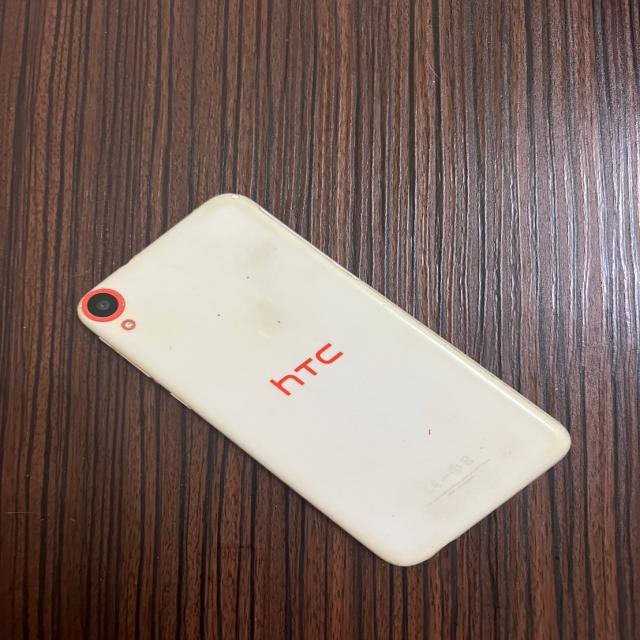Smartphone: (41, 168, 596, 595)
